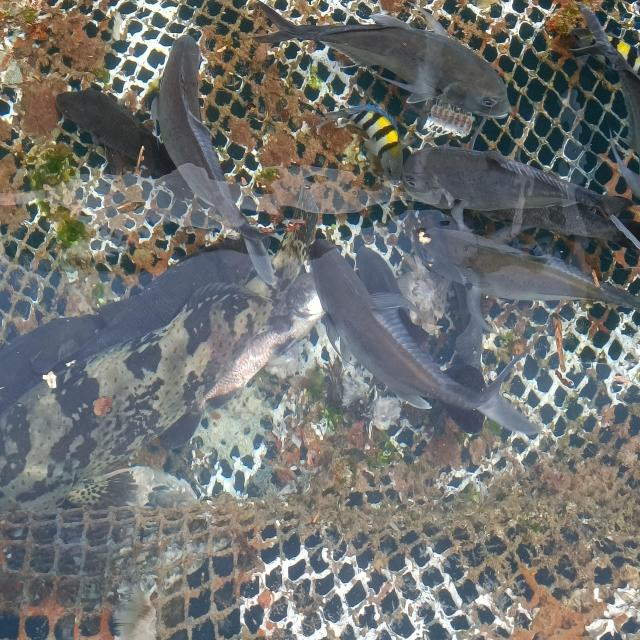ikan: (153, 36, 269, 277), (413, 219, 640, 329), (332, 2, 499, 141), (417, 144, 640, 238), (52, 88, 177, 180), (324, 99, 402, 190)
